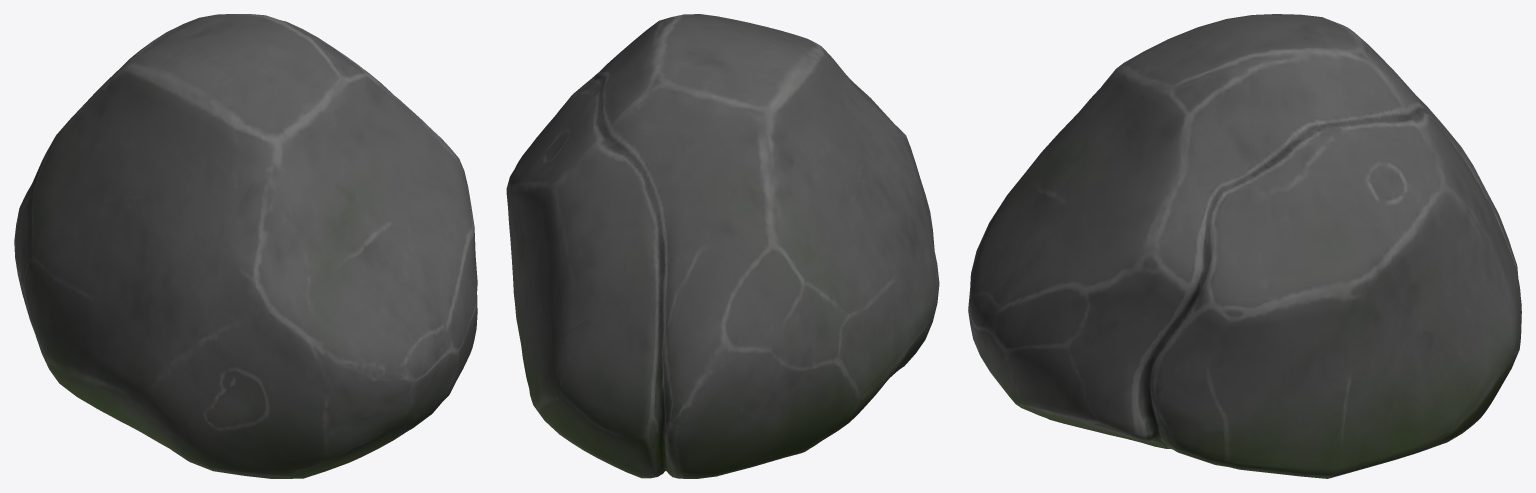
File: rock-transformed.glb
3 views of the same model, side by side, from view 1: azimuth 30°, elevation 25°; view 2: azimuth 150°, elevation 25°; view 3: azimuth 270°, elevation 25° (orthographic). The views are drawn at different scales.
Parts seen in each view (by area): view 1: Object_4; view 2: Object_4; view 3: Object_4.
Boxes of the visible parts, x1,y1,x2,y2 form: Object_4: [14, 14, 477, 478]; Object_4: [506, 14, 939, 478]; Object_4: [968, 14, 1521, 478].
Bounding box in the file's own units: 0.4154 × 0.3986 × 0.5074.
Materials: 1 (1 with a texture image).
